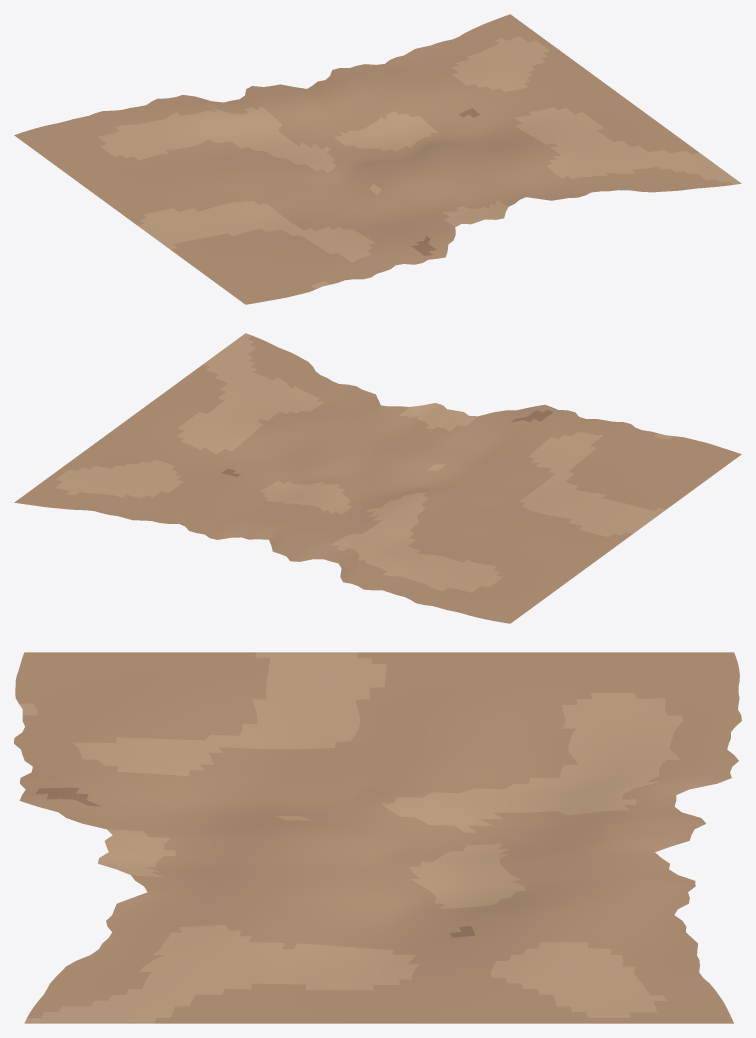
The model's file is SM_CanyonFloor_Straight_C_Narrow.glb.
3 views of the same model, one above another, from view 1: azimuth 30°, elevation 25°; view 2: azimuth 150°, elevation 25°; view 3: azimuth 270°, elevation 25° (orthographic). The views are drawn at different scales.
Parts seen in each view (by area): view 1: SM_CanyonFloor_Straight_C_Narrow; view 2: SM_CanyonFloor_Straight_C_Narrow; view 3: SM_CanyonFloor_Straight_C_Narrow.
Part boxes in pixels (x1=…): SM_CanyonFloor_Straight_C_Narrow: x1=14, y1=14, x2=741, y2=304; SM_CanyonFloor_Straight_C_Narrow: x1=14, y1=333, x2=741, y2=623; SM_CanyonFloor_Straight_C_Narrow: x1=14, y1=652, x2=741, y2=1023.
Bounding box in the file's own units: 24 × 0.4549 × 19.9.
